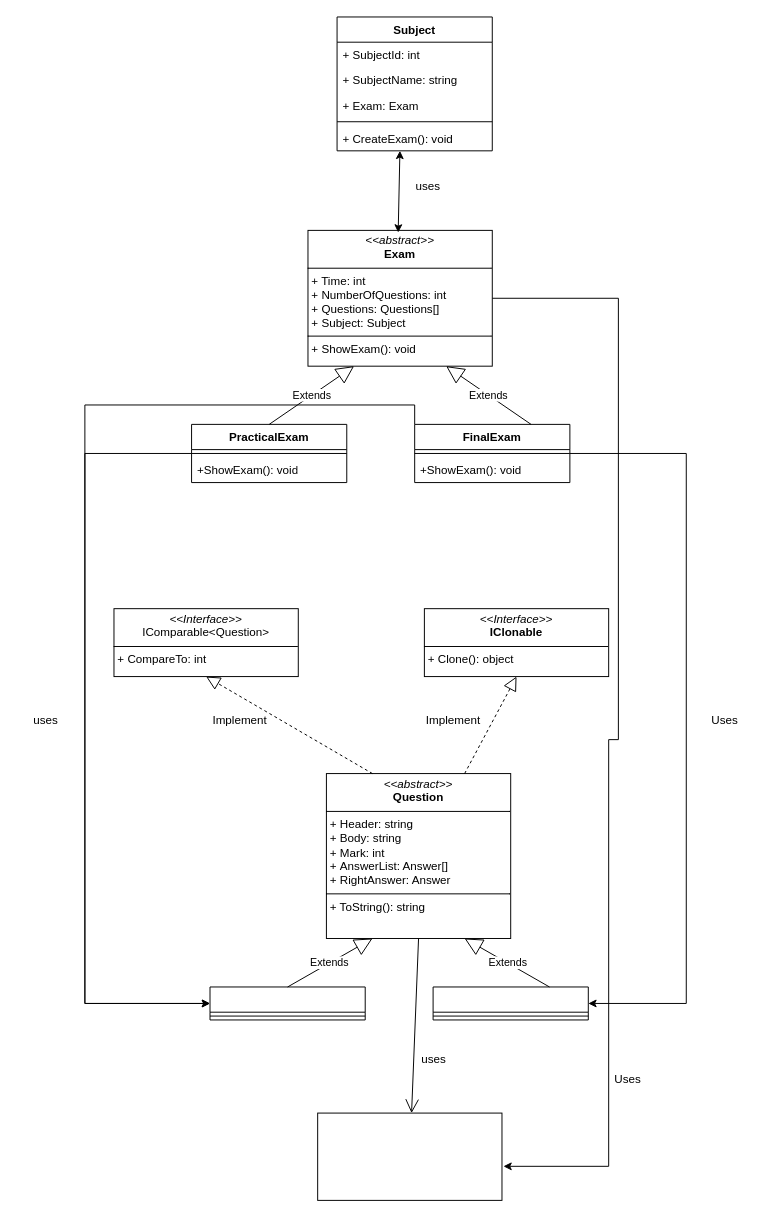
Some shapes in this 770 by 1217 pixel diagram are drawn without their labels. Each missing label, with the centre of its shape:
"Answer + AnswerId: int + AnswerText : string + ToString(): string" goes at point 409,1156.
"MCQQuestion" goes at point 287,1003.
"TrueOrFalseQuestion" goes at point 510,1003.
